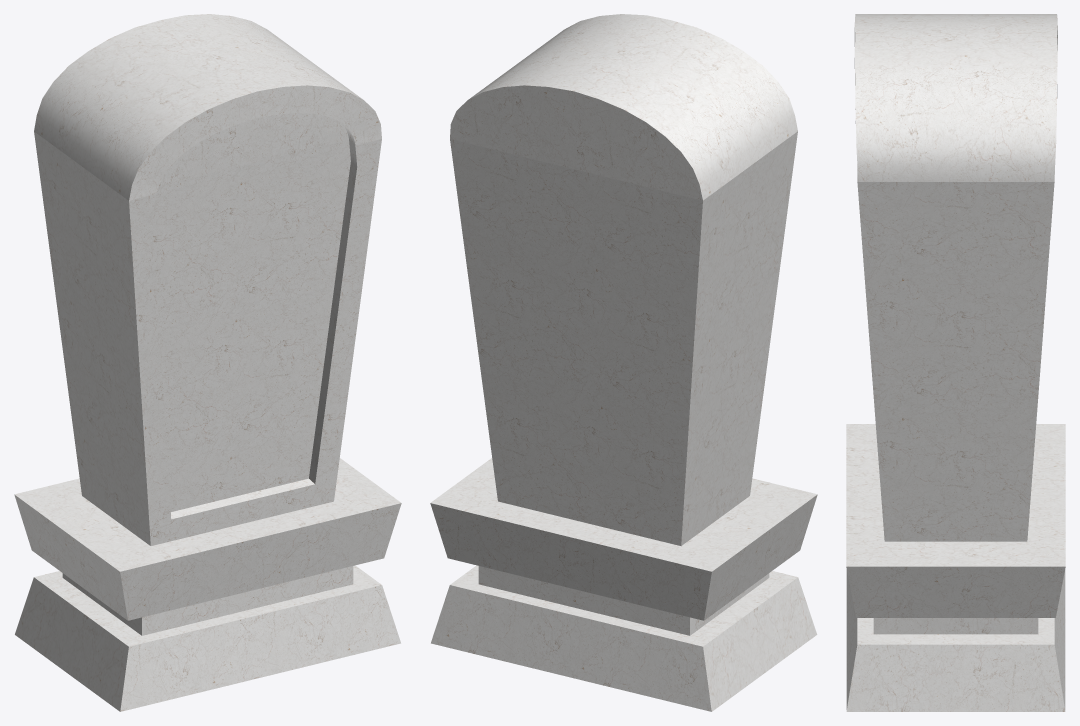
File: curved-tombstone.fbx
3 views of the same model, side by side, from view 1: azimuth 30°, elevation 25°; view 2: azimuth 150°, elevation 25°; view 3: azimuth 270°, elevation 25° (orthographic). The views are drawn at different scales.
Parts seen in each view (by area): view 1: curved rectangle- 1; view 2: curved rectangle- 1; view 3: curved rectangle- 1.
Part boxes in pixels (bbox=[...]): curved rectangle- 1: bbox=[14, 14, 401, 711]; curved rectangle- 1: bbox=[430, 14, 817, 711]; curved rectangle- 1: bbox=[846, 14, 1065, 711].
Size of the model in its own units: 62.22 by 123 by 40.47.
